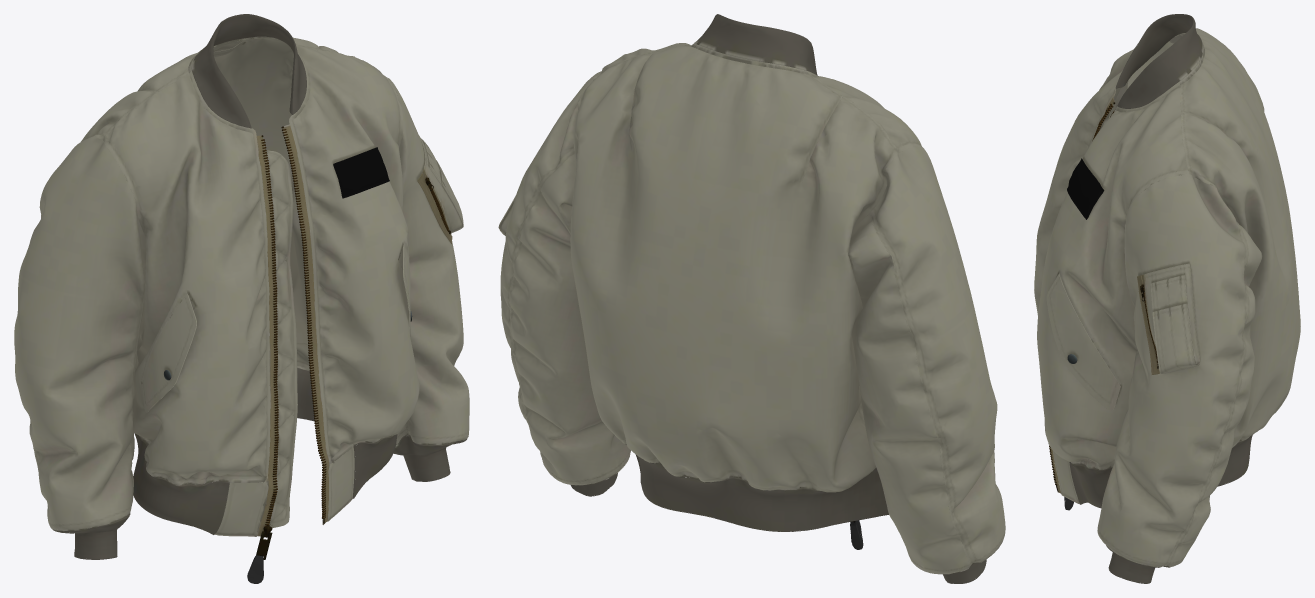
Rendered from MA-1_CLO.glb.
3 views of the same model, side by side, from view 1: azimuth 30°, elevation 25°; view 2: azimuth 150°, elevation 25°; view 3: azimuth 270°, elevation 25° (orthographic). The views are drawn at different scales.
Visible parts, largest first — view 1: _mesh.009; view 2: _mesh.009; view 3: _mesh.009.
Boxes of the visible parts, left/top/right/bottom form: _mesh.009: left=14, top=14, right=469, bottom=583; _mesh.009: left=498, top=14, right=1005, bottom=583; _mesh.009: left=1034, top=14, right=1300, bottom=583.
Size of the model in its own units: 0.6944 by 0.7811 by 0.3713.
Materials: 16 (14 with a texture image).
